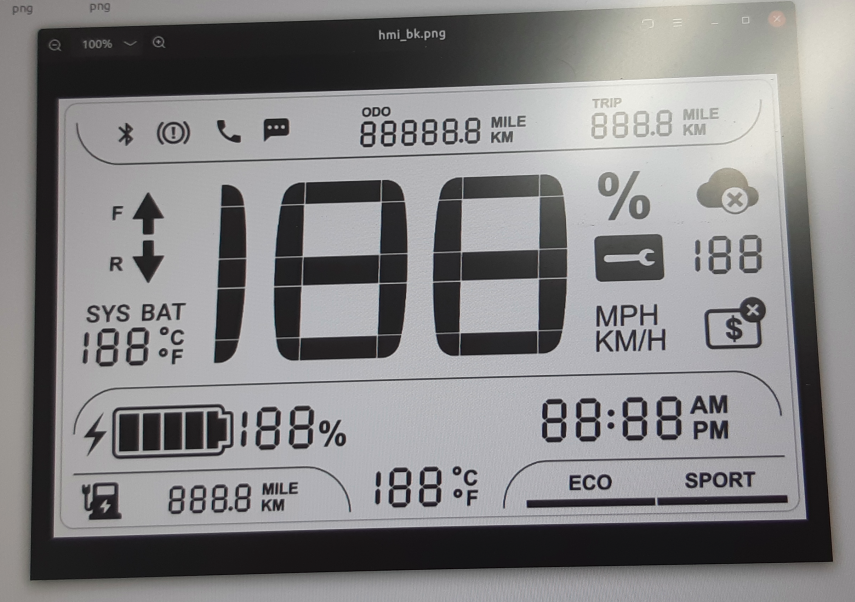bluetooth_on: (115, 119, 138, 149)
braking_on: (154, 118, 192, 147)
calling_on: (212, 114, 244, 147)
connection_lost: (695, 165, 761, 216)
error_code: (591, 231, 666, 284)
low_battery: (79, 478, 126, 523)
sms_on: (257, 114, 293, 145)
vin_id: (701, 295, 768, 352)
